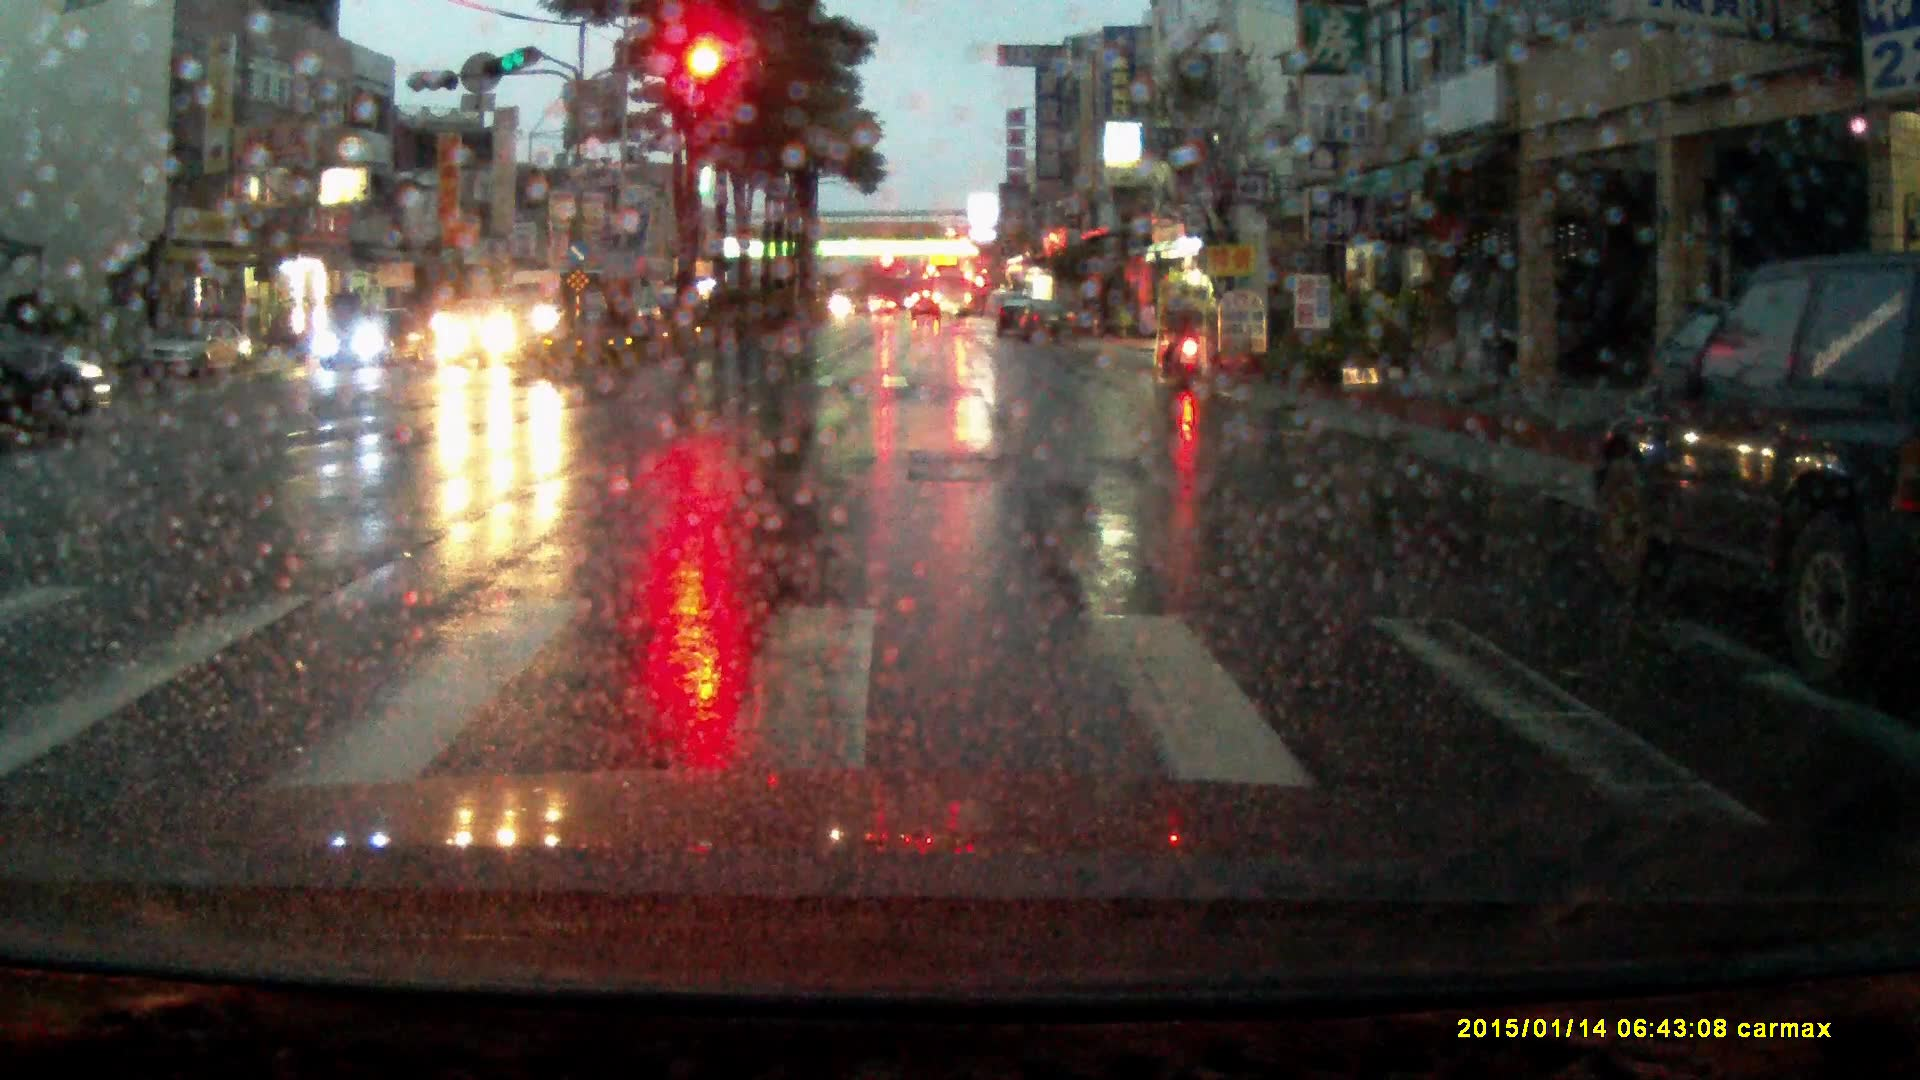rider: (1158, 278, 1202, 387)
vehicle: (1582, 248, 1920, 683), (7, 352, 116, 429), (431, 298, 546, 370), (317, 304, 429, 373), (142, 314, 253, 380), (494, 268, 591, 341), (574, 288, 664, 340), (1, 331, 69, 389), (1017, 300, 1079, 346), (931, 264, 973, 321), (995, 295, 1030, 338), (911, 291, 943, 322)
